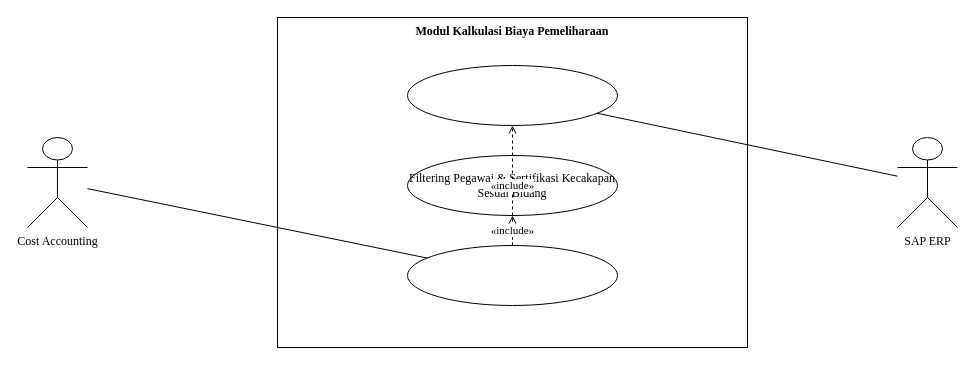
Some shapes in this 975 by 365 pixel diagram are drawn without their labels. Here are the shapes that lost their labels. From the top down, the centre of each, then its label:
[512,95]: Ambil Data Terintegrasi
[512,275]: Kalkulasi Biaya Pemeliharaan
